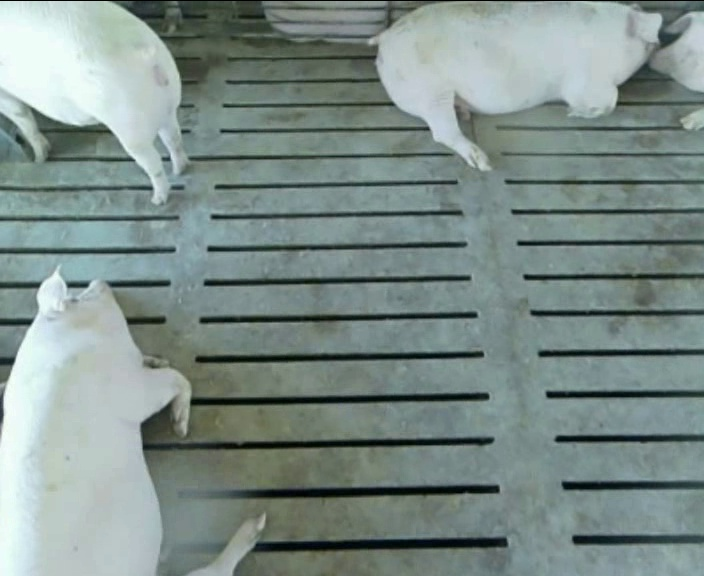pig: (369, 2, 661, 170)
